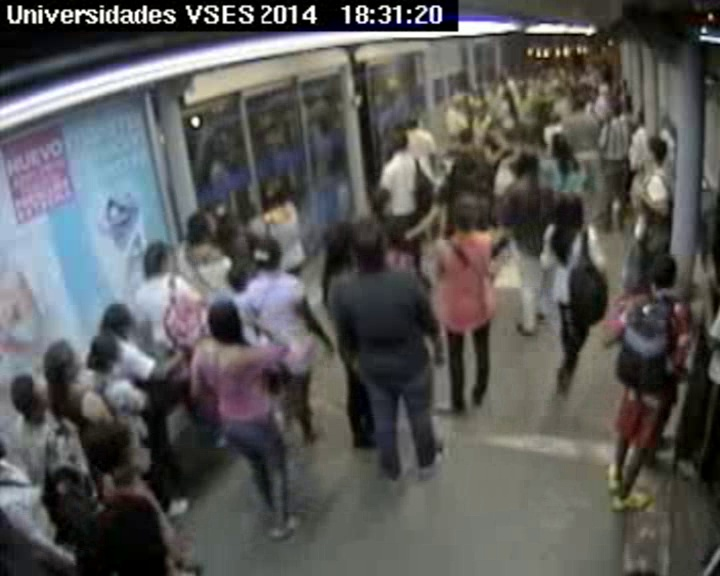person: (37, 466, 97, 531), (83, 421, 139, 485), (45, 340, 87, 385), (11, 376, 49, 422), (351, 227, 387, 269), (204, 302, 242, 340), (247, 234, 284, 273), (325, 223, 357, 261), (647, 257, 682, 291), (87, 334, 120, 370), (103, 302, 136, 336), (217, 218, 249, 253), (452, 193, 482, 230), (143, 243, 174, 274), (260, 178, 291, 208), (556, 194, 585, 226), (186, 213, 216, 243), (642, 135, 666, 163), (370, 188, 394, 215), (420, 193, 444, 220), (385, 124, 409, 148), (551, 135, 573, 156), (516, 154, 536, 175), (523, 193, 542, 215), (484, 122, 502, 141), (525, 128, 541, 146), (454, 156, 470, 174), (505, 129, 521, 146), (471, 100, 487, 116), (458, 128, 473, 144), (449, 95, 464, 110), (607, 102, 622, 117), (545, 111, 560, 126), (575, 84, 588, 98), (405, 115, 418, 129), (631, 112, 644, 126), (596, 82, 609, 95), (487, 80, 499, 92), (517, 81, 529, 93), (551, 87, 563, 99), (509, 63, 520, 74), (545, 68, 556, 79), (501, 87, 511, 99), (583, 63, 593, 74), (575, 101, 585, 112), (557, 69, 567, 79), (498, 74, 507, 84), (536, 68, 545, 78), (563, 86, 573, 95), (567, 63, 575, 72), (527, 71, 535, 80)
